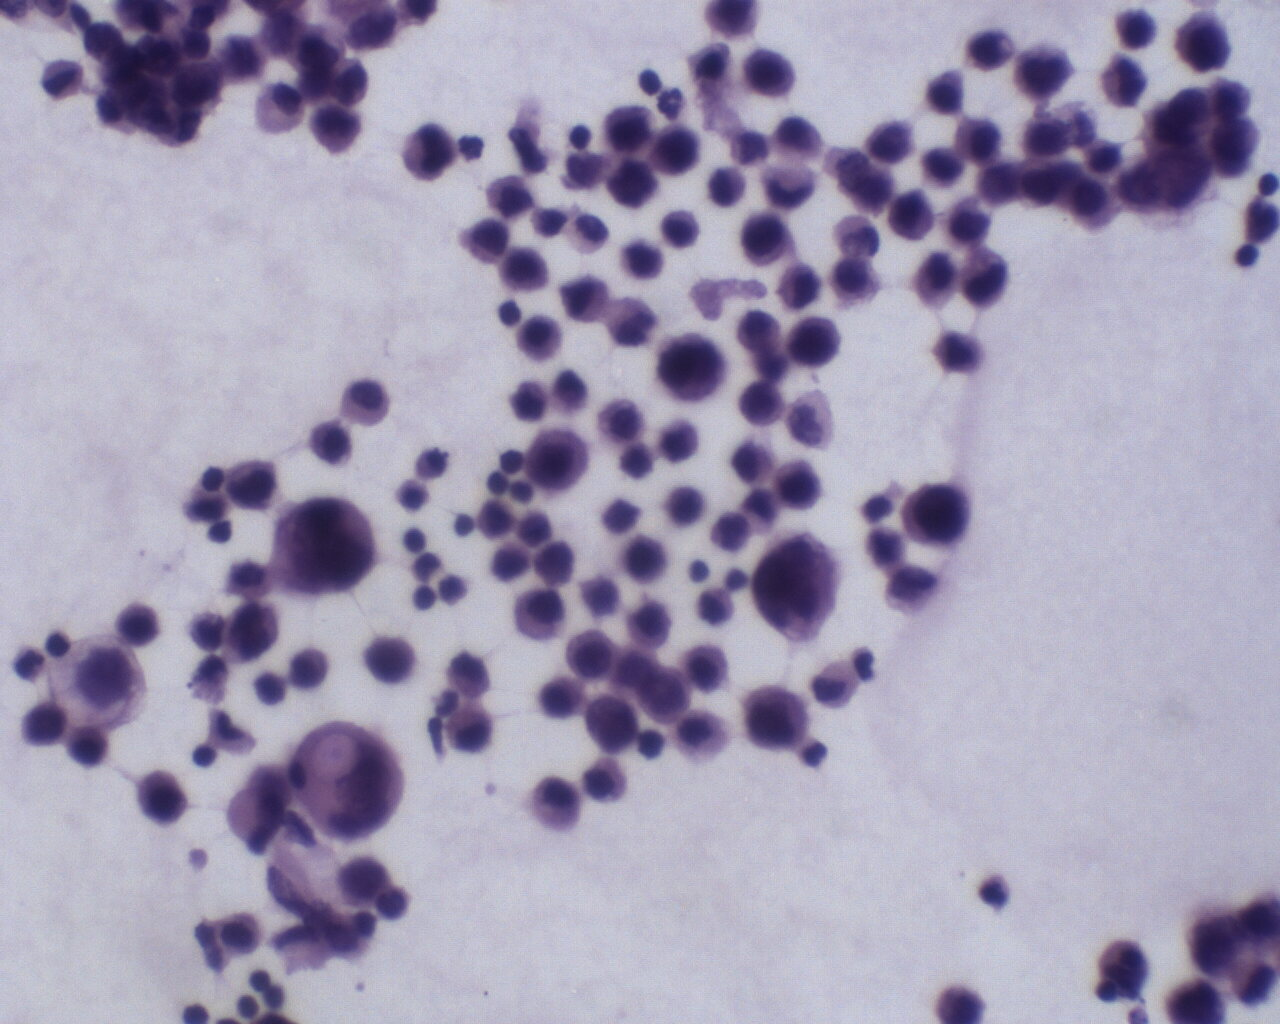ab: (287, 717, 406, 842), (754, 529, 851, 653), (273, 494, 374, 598), (898, 476, 973, 552), (653, 330, 728, 405), (740, 684, 818, 757), (519, 426, 590, 495), (1011, 38, 1075, 104), (394, 121, 460, 185), (579, 693, 645, 755), (222, 598, 282, 666), (133, 763, 193, 830), (1173, 13, 1237, 75), (957, 245, 1013, 315), (362, 630, 421, 692), (788, 313, 847, 372), (599, 98, 655, 158), (639, 662, 693, 725), (864, 111, 920, 169), (226, 453, 279, 514), (648, 122, 704, 178), (738, 215, 797, 267), (605, 155, 657, 212), (886, 188, 940, 242)
meso: (523, 772, 586, 832), (251, 76, 308, 141), (510, 586, 574, 642), (673, 707, 734, 764), (955, 112, 1011, 172), (621, 596, 683, 649), (509, 312, 571, 365), (341, 370, 391, 433), (579, 757, 635, 809)
